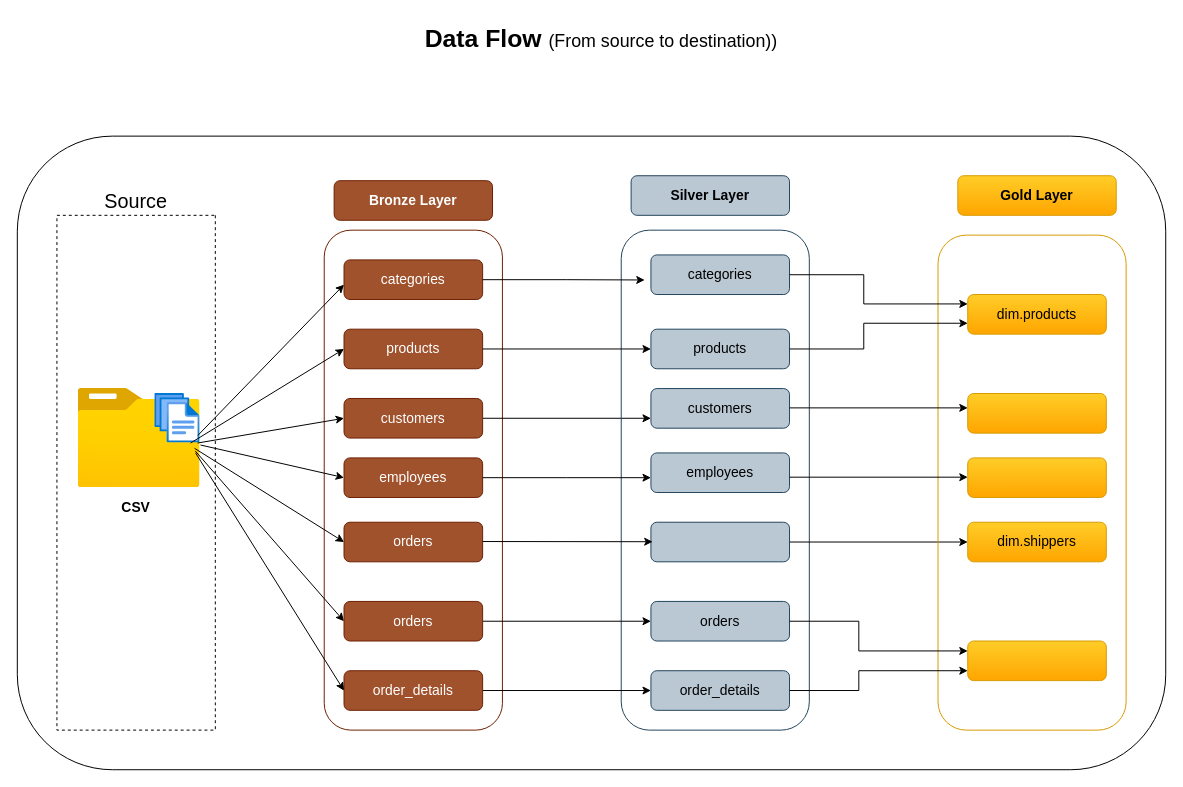
The diagram is 1183 pixels wide and 787 high, and some of its shapes have lost their labels. The shapes that lost their labels are listed below. From the top down, each one's centre as x and y in pixels, then its label:
the point at 1036,413: dim.customers
the point at 1036,477: dim.employees
the point at 720,541: shippers
the point at 1036,660: fact.orders
